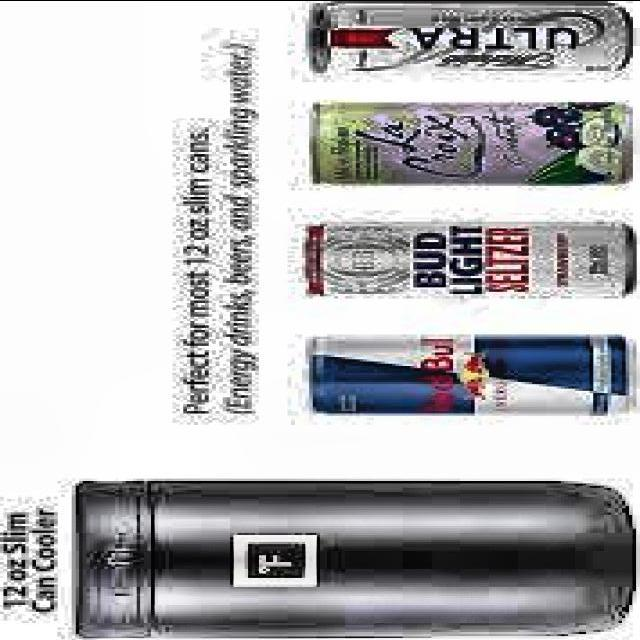Aluminum Can: (295, 326, 640, 424), (302, 99, 640, 189), (295, 219, 640, 302), (295, 0, 640, 81)
